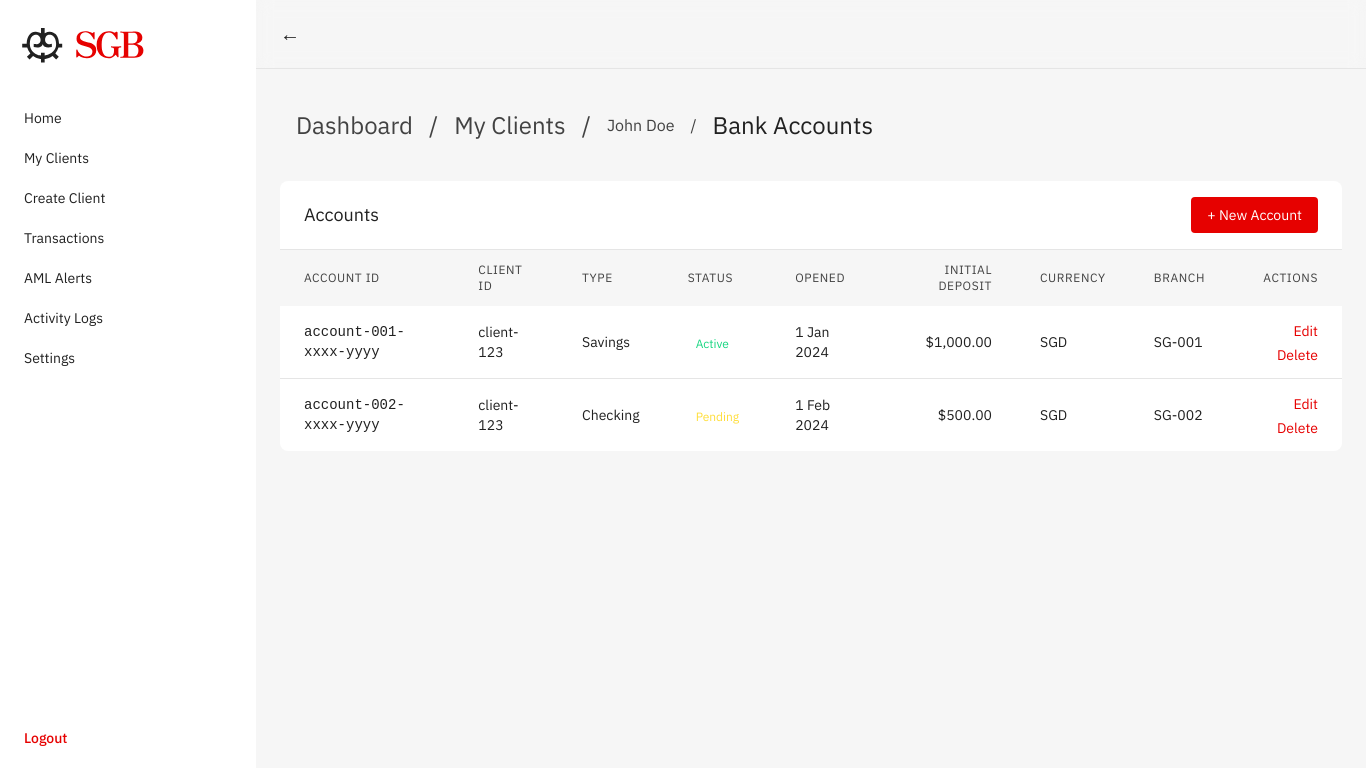
Test: ClientAccountsPage › should open edit modal when Edit button is clicked
The image size is (1366, 768).
Click the button "Edit" in the row of "account-001-xxxx-yyyy" at (1306, 331), box [1293,321,1318,341]
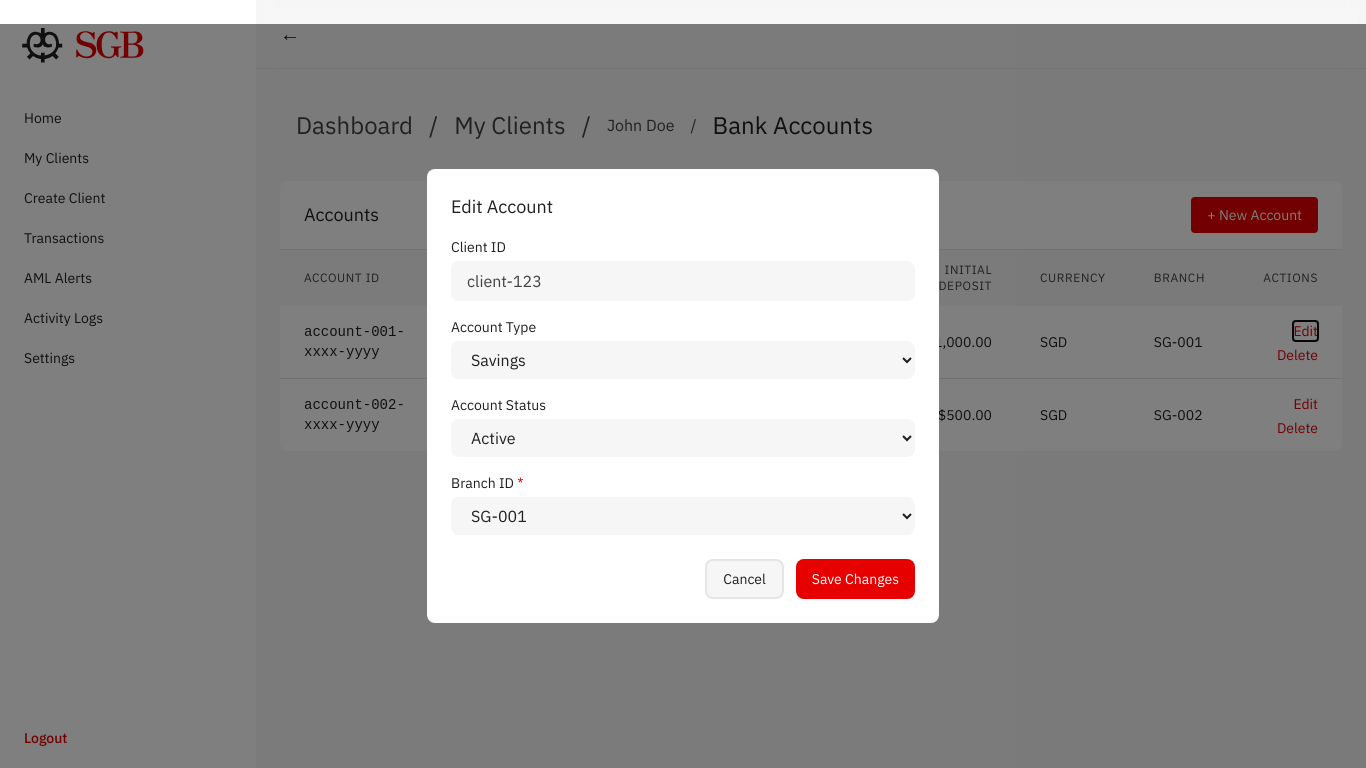
Check: the element with test id "account-modal" is shown
Check: the heading "Edit Account" is shown, box [451,195,553,218]
